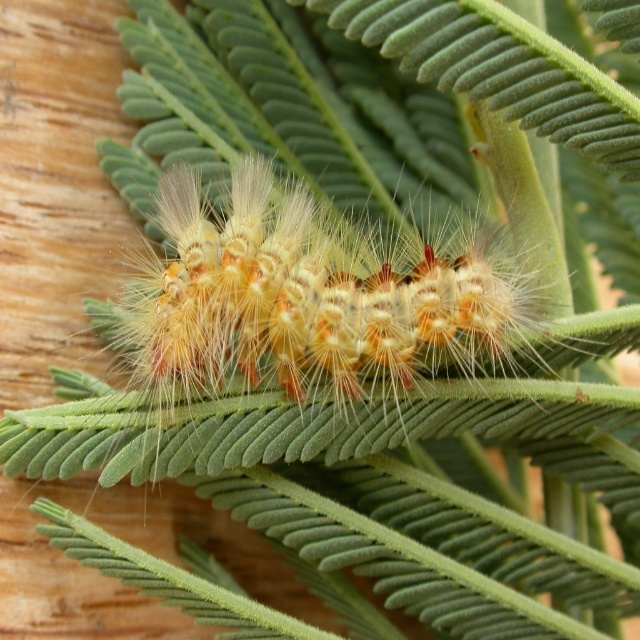Caterpillar: (13, 150, 606, 550)
